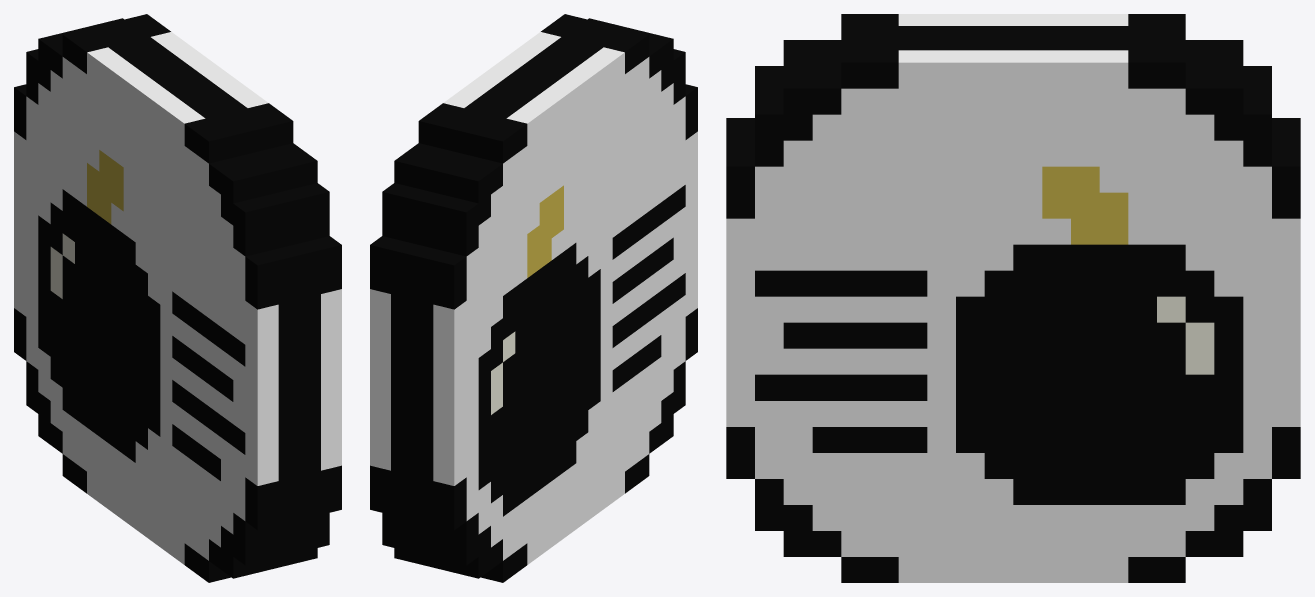
File: pushboost.obj
3 renders of one model, left to right at view 1: azimuth 30°, elevation 25°; view 2: azimuth 150°, elevation 25°; view 3: azimuth 270°, elevation 25°, orthographic. The views are drawn at different scales.
Bounding box in the file's own units: 4 × 20 × 20.
Materials: 1 (1 with a texture image).
